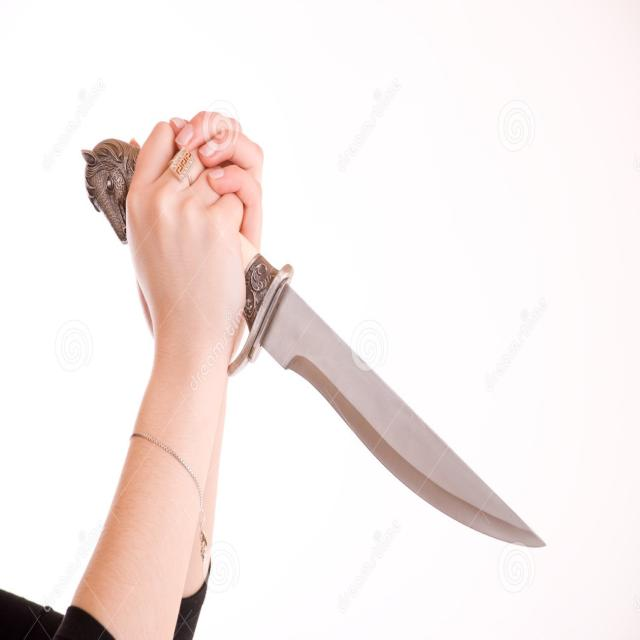knife: (83, 132, 553, 569)
